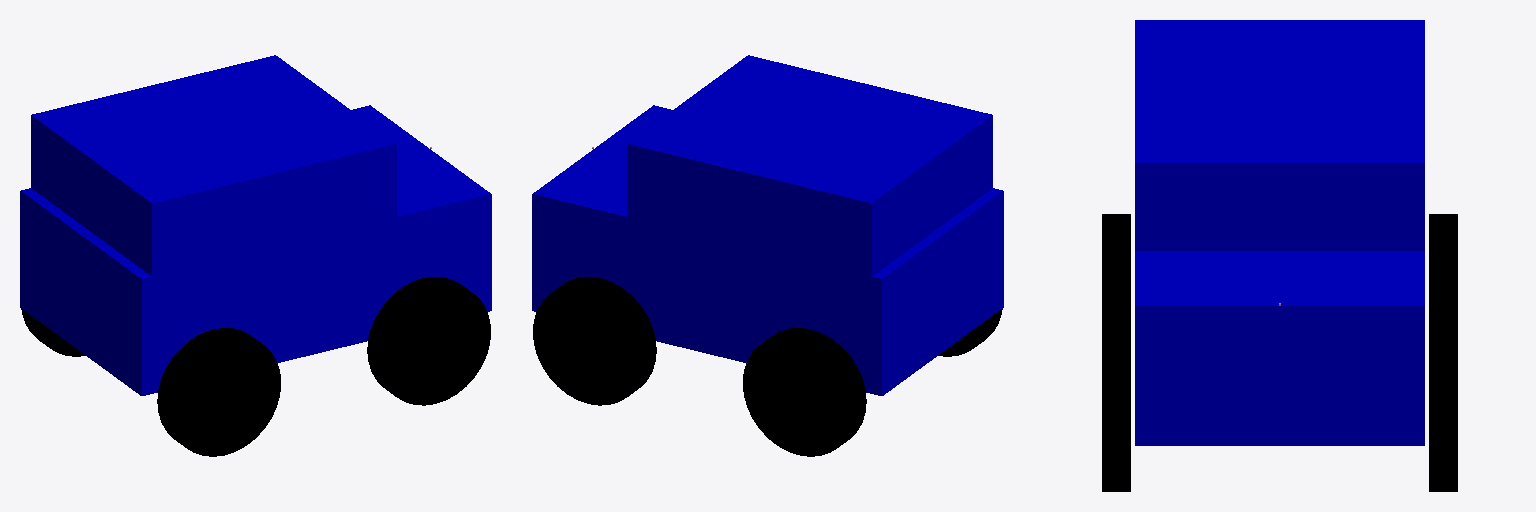
URDF robot description (our_car_model):
<?xml version="1.0"?>
<robot name="our_car_model">

	<!-- Chassis -->
	<link name="chassis">
		<visual>
			<geometry>
				<box size="2.5 1.5 0.8"/>
				<origin rpy="0 0 0" xyz="0 0 0"/>
			</geometry>
			<material name="blue">
				<color rgba="0 0 .8 1"/>
			</material>
		</visual>
		<collision>
			<geometry>
				<box size="2.5 1.5 0.8"/>
				<origin rpy="0 0 0" xyz="0 0 0"/>
			</geometry>
		</collision>
		<inertial>
			<mass value="555"/>
			<inertia ixx="0.8" ixy="0.0" ixz="0.0" iyy="5.9" iyz="0.0" izz="5.1"/>
		</inertial>
	</link>

	<link name="toit">
		<visual>
			<geometry>
				<box size="1.75 1.5 0.5"/>
				<origin rpy="0 0 0" xyz="0 0 0"/>
			</geometry>
			<material name="blue">
				<color rgba="0 0 .8 1"/>
			</material>
		</visual>
		<collision>
			<geometry>
				<box size="1.75 1.5 0.5"/>
				<origin rpy="0 0 0" xyz="0 0 0"/>
			</geometry>
		</collision>
		<inertial>
			<mass value="10"/>
			<inertia ixx="0.4" ixy="0.0" ixz="0.0" iyy="0.4" iyz="0.0" izz="0.2"/>
		</inertial>
	</link>

	<!-- Roues -->
	<link name="front_left_wheel">
		<visual>
			<geometry>
				<cylinder length="0.15" radius="0.4"/>
				<origin rpy="0 0 0" xyz="0 0 0"/>
			</geometry>
			<material name="black">
				<color rgba="0 0 0 1"/>
			</material>
		</visual>
		<collision>
			<geometry>
				<cylinder length="0.15" radius="0.4"/>
				<origin rpy="0 0 0" xyz="0 0 0"/>
			</geometry>
		</collision>
		<inertial>
			<mass value="10"/>
			<inertia ixx="0.4" ixy="0.0" ixz="0.0" iyy="0.4" iyz="0.0" izz="0.2"/>
		</inertial>

	</link>

	<link name="front_right_wheel">
		<visual>
			<geometry>
				<cylinder length="0.15" radius="0.4"/>
				<origin rpy="0 0 0" xyz="0 0 0"/>
			</geometry>
			<material name="black">
				<color rgba="0 0 0 1"/>
			</material>
		</visual>
		<collision>
			<geometry>
				<cylinder length="0.15" radius="0.4"/>
				<origin rpy="0 0 0" xyz="0 0 0"/>
			</geometry>
		</collision>
		<inertial>
			<mass value="10"/>
			<inertia ixx="0.4" ixy="0.0" ixz="0.0" iyy="0.4" iyz="0.0" izz="0.2"/>
		</inertial>
	</link>

	<link name="rear_left_wheel">
		<visual>
			<geometry>
				<cylinder length="0.15" radius="0.4"/>
				<origin rpy="0 0 0" xyz="0 0 0"/>
			</geometry>
			<material name="black">
				<color rgba="0 0 0 1"/>
			</material>
		</visual>
		<collision>
			<geometry>
				<cylinder length="0.15" radius="0.4"/>
				<origin rpy="0 0 0" xyz="0 0 0"/>
			</geometry>
		</collision>
		<inertial>
			<mass value="10"/>
			<inertia ixx="0.4" ixy="0.0" ixz="0.0" iyy="0.4" iyz="0.0" izz="0.2"/>
		</inertial>
	</link>

	<link name="rear_right_wheel">
		<visual>
			<geometry>
				<cylinder length="0.15" radius="0.4"/>
				<origin rpy="0 0 0" xyz="0 0 0"/>
			</geometry>
			<material name="black">
				<color rgba="0 0 0 1"/>
			</material>
		</visual>
		<collision>
			<geometry>
				<cylinder length="0.15" radius="0.4"/>
				<origin rpy="0 0 0" xyz="0 0 0"/>
			</geometry>
		</collision>
		<inertial>
			<mass value="10"/>
			<inertia ixx="0.4" ixy="0.0" ixz="0.0" iyy="0.4" iyz="0.0" izz="0.2"/>
		</inertial>
		<plugin name="wheel_command" filename="libcommande_roues_plugin.so"/>
	</link>


	<!-- Ajout capteur ultrason -->
	<link name="capteur_ultrason">
    <inertial>
      <mass value="0.001" />
      <origin xyz="0 0 0" rpy="0 0 0" />
      <inertia ixx="0.000000017" ixy="0" ixz="0" iyy="0.000000017" iyz="0" izz="0.000000017" />
    </inertial>
    <collision>
      <origin xyz="0 0 0" rpy="0 0 0" />
      <geometry>
        <box size="0.01 0.01 0.01" />
      </geometry>
    </collision>
    <visual>
      <origin xyz="0 0 0" rpy="0 0 0" />
      <geometry>
        <box size="0.01 0.01 0.01" />
      </geometry>
    </visual>
  </link>

	<gazebo reference="capteur_ultrason">
		<sensor type="ray" name="sensor">
		  <always_on>true</always_on>
		  <update_rate>10</update_rate>
		  <pose>0 0 0 0 0 0</pose>
		  <visualize>true</visualize>
		  <ray>
		    <scan>
		      <horizontal>
		        <samples>16</samples>
		        <resolution>1</resolution>
		        <min_angle>-0.16</min_angle>
		        <max_angle> 0.16</max_angle>
		      </horizontal>
		    </scan>
		    <range>
		      <min>0.05</min>
		      <max>110</max>
		      <resolution>0.02</resolution>
		    </range>
			</ray>
			<plugin name="sonar_controller" filename="libhector_gazebo_ros_sonar.so"/>
		</sensor>
	</gazebo>

	<gazebo>
	<plugin name="wheel_controller" filename="libcommande_roues_plugin.so"/>
	</gazebo>

	<!-- Mise en place des liens -->

	<joint name="chassis_to_toit" type="fixed">
		<parent link="chassis"/>
		<child link="toit"/>
		<origin xyz="-0.3 0 0.65"/>
	</joint>

	<joint name="chassis_to_front_left_wheel" type="continuous">
		<parent link="chassis"/>
		<child link="front_left_wheel"/>
		<origin rpy="1.57075 0 0" xyz="0.75 0.845 -0.45"/>
		<axis xyz = "0 0 1" />
	</joint>

	<joint name="chassis_to_front_right_wheel" type="continuous">
		<parent link="chassis"/>
		<child link="front_right_wheel"/>
		<origin rpy="1.57075 0 0" xyz="0.75 -0.845 -0.45"/>
		<axis xyz = "0 0 1" />
	</joint>

	<joint name="chassis_to_rear_left_wheel" type="continuous">
		<parent link="chassis"/>
		<child link="rear_left_wheel"/>
		<origin rpy="1.57075 0 0" xyz="-0.75 0.845 -0.45"/>
		<axis xyz = "0 0 1" />
	</joint>

	<joint name="chassis_to_rear_right_wheel" type="continuous">
		<parent link="chassis"/>
		<child link="rear_right_wheel"/>
		<origin rpy="1.57075 0 0" xyz="-0.75 -0.845 -0.45"/>
		<axis xyz = "0 0 1" />
	</joint>

	<joint name="chassis_to_sonar_sensor" type="fixed">
		<parent link="chassis"/>
		<child link="capteur_ultrason"/>
		<origin rpy="0 0 0" xyz="1.25 0 0.41"/>
	</joint>

</robot>

--- Facts derived from the render (not from the file) ---
Views: 3 orthographic renders of the robot side by side, from view 1: azimuth 30°, elevation 25°; view 2: azimuth 150°, elevation 25°; view 3: azimuth 270°, elevation 25°.
Robot: our_car_model — 7 links, 6 joints (4 continuous, 2 fixed); root link chassis; default pose: all joints at 0.
Links seen in each view (by area): view 1: toit, chassis, rear_right_wheel, front_right_wheel, rear_left_wheel; view 2: toit, chassis, rear_left_wheel, front_left_wheel, rear_right_wheel; view 3: toit, chassis, front_left_wheel, front_right_wheel, rear_left_wheel, rear_right_wheel.
Link boxes in pixels (x1,y1,x2,y2): toit: (31, 55, 396, 276); chassis: (20, 105, 491, 395); rear_right_wheel: (157, 328, 280, 456); front_right_wheel: (367, 277, 490, 405); rear_left_wheel: (21, 309, 85, 356); toit: (627, 55, 992, 276); chassis: (532, 105, 1003, 395); rear_left_wheel: (743, 328, 866, 456); front_left_wheel: (533, 277, 656, 405); rear_right_wheel: (938, 309, 1002, 356); toit: (1135, 20, 1424, 250); chassis: (1135, 251, 1424, 445); front_left_wheel: (1429, 337, 1457, 491); front_right_wheel: (1102, 337, 1130, 491); rear_left_wheel: (1429, 214, 1457, 336); rear_right_wheel: (1102, 214, 1130, 336).
Bounding box of the posed robot: 2.5 × 1.84 × 1.75 m (x, y, z).
Geometry: primitives only (box / cylinder / sphere), no mesh files.
